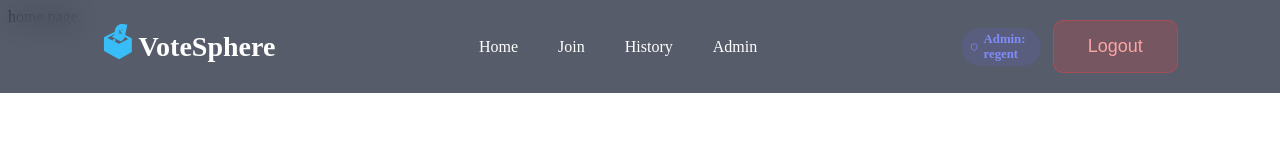
Test: Navbar: admin state (covers: AC-3 hardening) › logs the admin out, sends them to /login, and returns to the anonymous branch
The image size is (1280, 160).
Click the button "Logout". click: x=1115, y=46
box: [1053,20,1178,73]
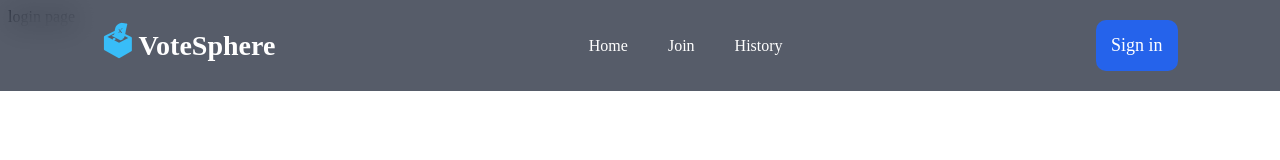
expect the text "login page" is shown: met, box [8,8,75,25]
expect the number of links "Sign in" is 1: met, box [1096,20,1178,71]
